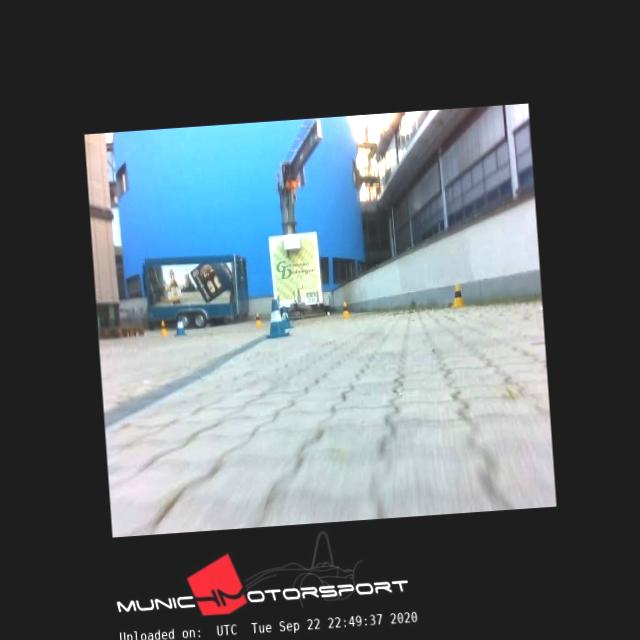blue_cone: (264, 298, 288, 336), (280, 306, 292, 328), (175, 316, 187, 334)
yellow_cone: (451, 284, 466, 308), (340, 300, 350, 317), (158, 319, 166, 334), (254, 312, 261, 326)
